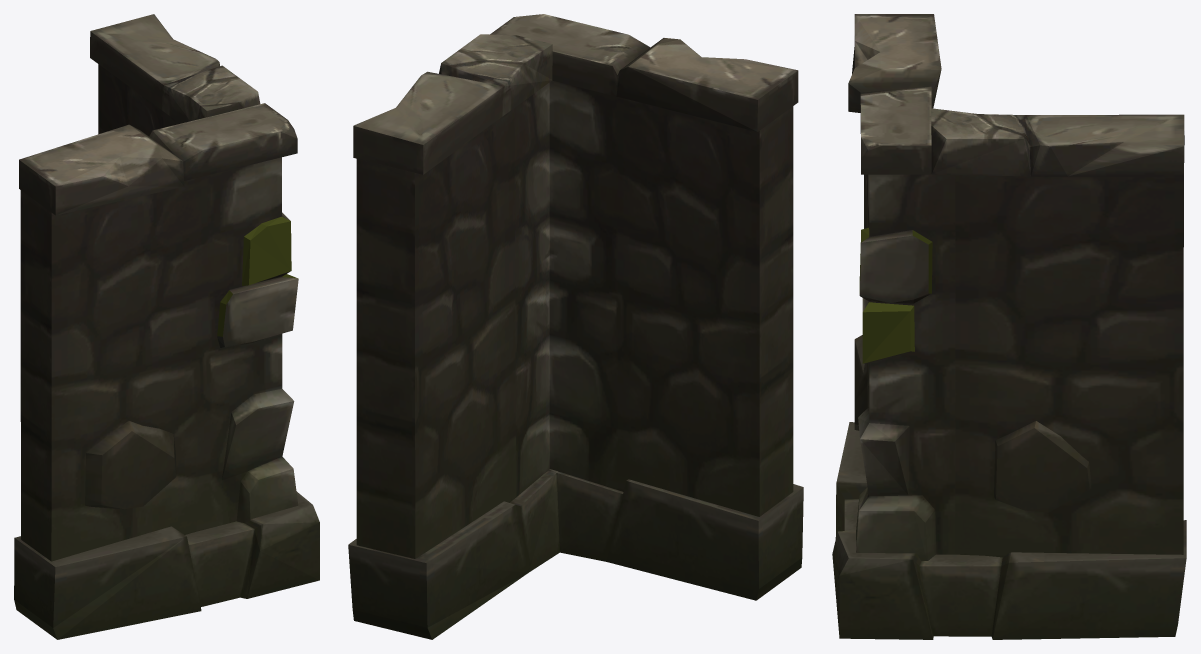
The model's file is humgraveyard_corner_01.fbx.
3 views of the same model, side by side, from view 1: azimuth 30°, elevation 25°; view 2: azimuth 150°, elevation 25°; view 3: azimuth 270°, elevation 25° (orthographic). The views are drawn at different scales.
Parts seen in each view (by area): view 1: obj3.011; view 2: obj3.011; view 3: obj3.011.
Boxes of the visible parts, bbox=[...] form: obj3.011: bbox=[14, 14, 319, 639]; obj3.011: bbox=[348, 14, 803, 639]; obj3.011: bbox=[832, 14, 1186, 639].
Bounding box in the file's own units: 2.38 × 3.96 × 2.57.
